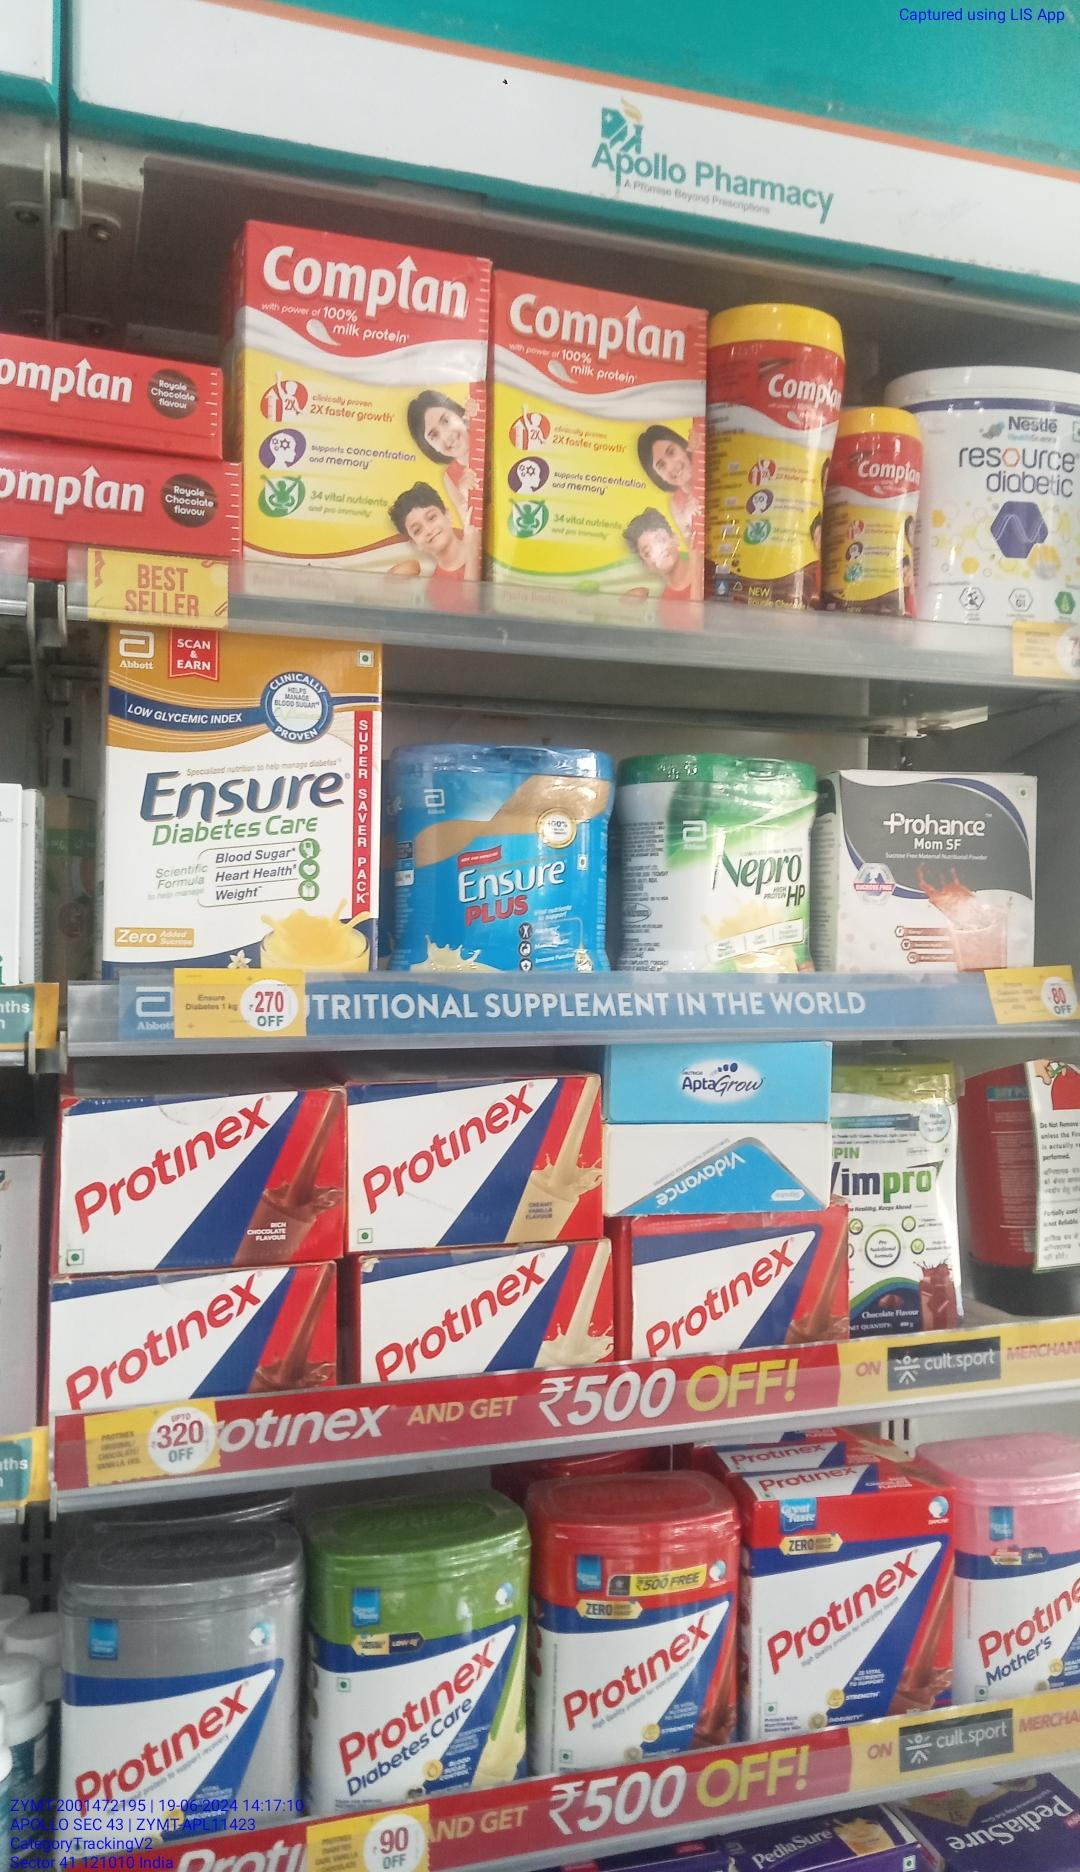COMPLAN_CHOCOLATE_200_GMS_JAR: (851, 400, 926, 616)
COMPLAN_CHOCOLATE_500_GMS_JAR: (726, 298, 845, 627)
COMPLAN_PISTA_BADAM_500_GMS_PACK: (491, 275, 706, 625)
